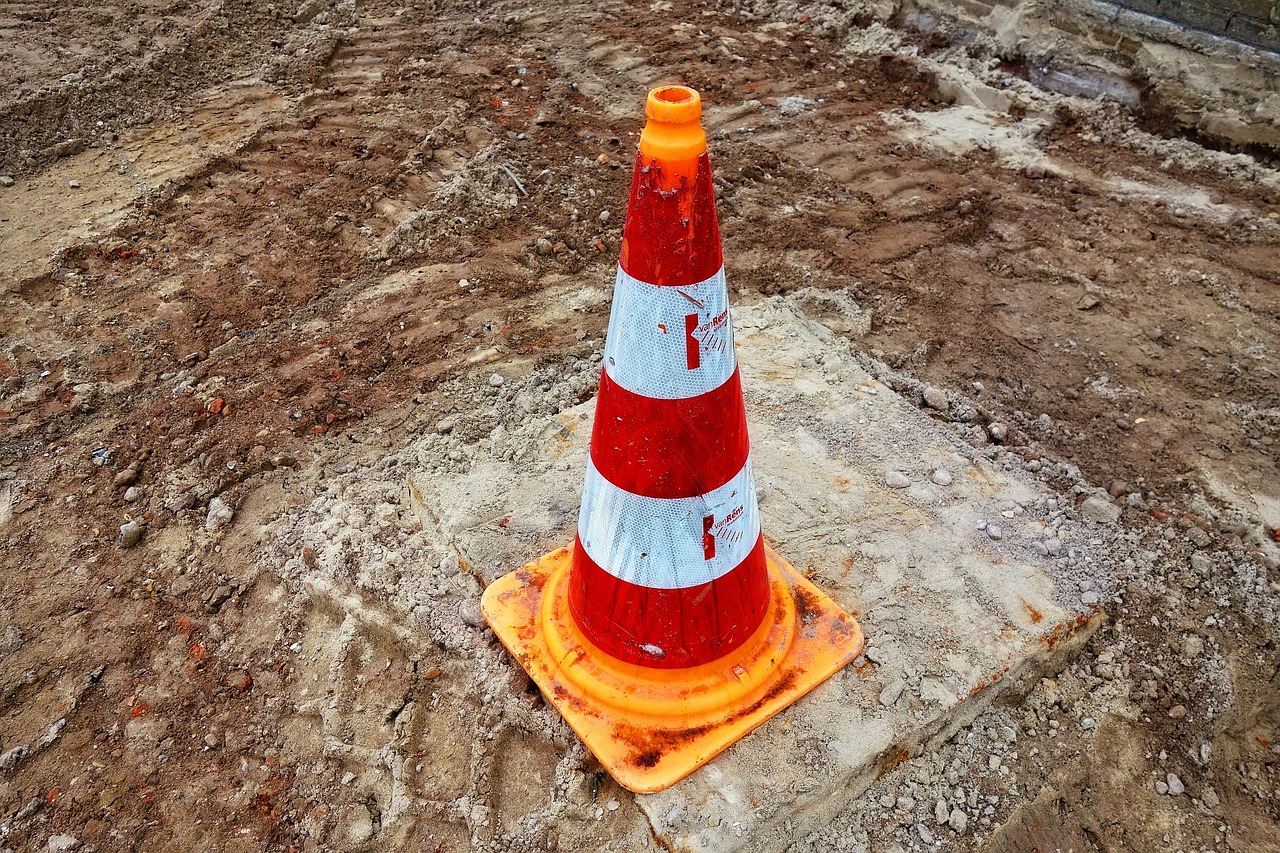traffic_cone: (479, 84, 866, 794)
